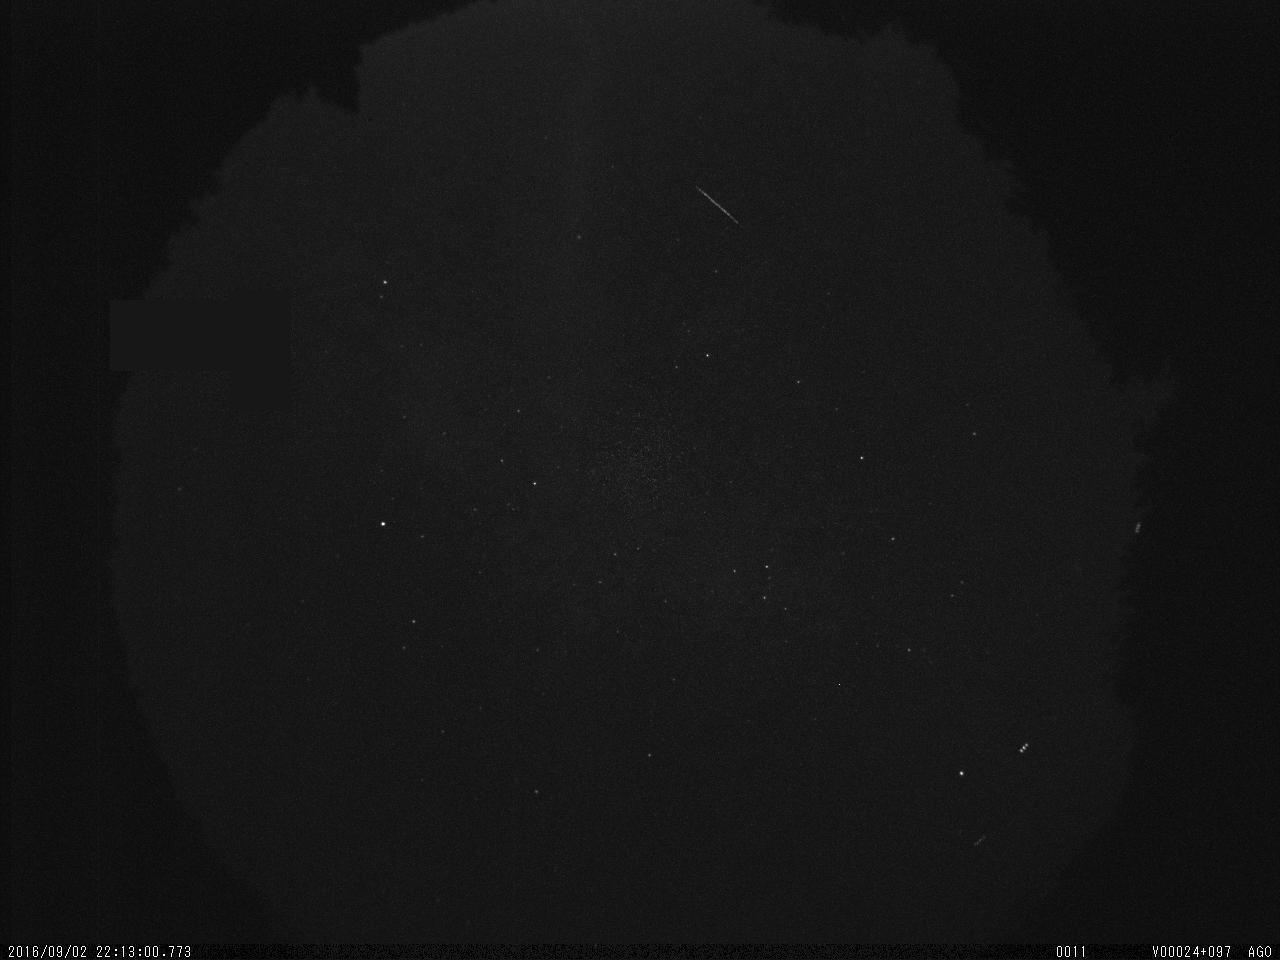meteor: (683, 174, 753, 240)
